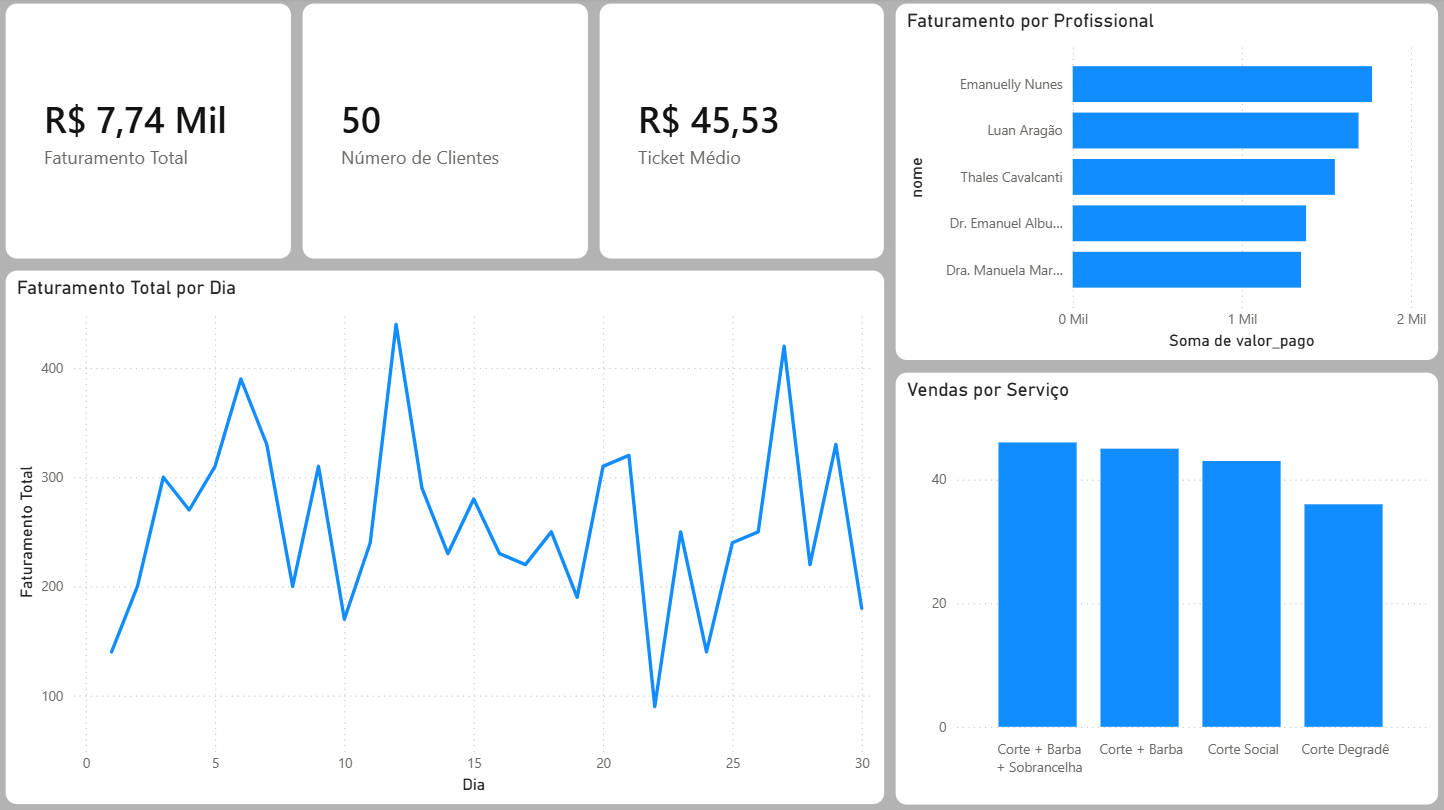

This screenshot's page, from the dashboard's own definition file:
{"tool":"powerbi","page":{"name":"Página 1","canvas":[1280,720],"ordinal":0},"visuals":[{"type":"cardVisual","fields":{"Data":["public vendas.Faturamento Total"]},"box":[0,0,263.5,236.5],"z":0},{"type":"cardVisual","fields":{"Data":["public vendas.Ticket Médio"]},"box":[526.9,0,262.2,236.5],"z":1000},{"type":"clusteredColumnChart","title":"Vendas por Serviço","fields":{"Category":["public servicos.tipo_servico"],"Y":["CountNonNull(public vendas.id_venda)"]},"box":[789.5,327,491,393],"z":2000},{"type":"barChart","title":"Faturamento por Profissional","fields":{"Category":["public profissional.nome"],"Y":["Sum(public vendas.valor_pago)"]},"box":[789.1,0,490.9,326.4],"z":3000},{"type":"cardVisual","fields":{"Data":["public clientes.Número de Clientes"]},"box":[263.5,0,263.5,236.5],"z":4000},{"type":"lineChart","fields":{"Y":["public vendas.Faturamento Total"],"Category":["public vendas.data_venda.Variation.Hierarquia de datas.Dia"]},"box":[0,236.5,789.1,483.2],"z":5000}]}

Visuals, with their boxes in screenshot pixels (x1, y1, x2, y2), scaled from the page's 1280x720 canvas onto the 1444x810 screenshot:
cardVisual - public vendas.Faturamento Total: [0,0,297,266]
cardVisual - public vendas.Ticket Médio: [594,0,890,266]
"Vendas por Serviço" clusteredColumnChart: [891,368,1443,809]
"Faturamento por Profissional" barChart: [890,0,1443,367]
cardVisual - public clientes.Número de Clientes: [297,0,595,266]
lineChart - public vendas.Faturamento Total x public vendas.data_venda.Variation.Hierarquia de datas.Dia: [0,266,890,809]
